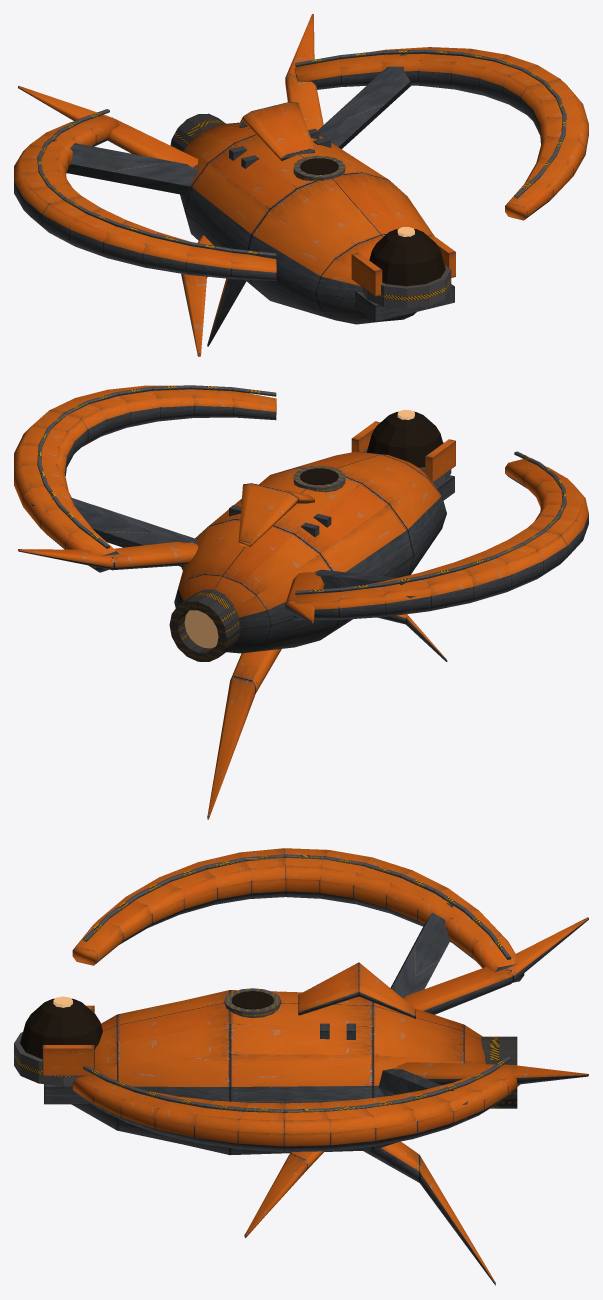
File: pioneer-saturn-l09-shield.glb
The picture shows the model from 3 angles, top to bottom: view 1: azimuth 30°, elevation 25°; view 2: azimuth 150°, elevation 25°; view 3: azimuth 270°, elevation 25°; orthographic projection. The views are drawn at different scales.
Visible parts, largest first — view 1: Drone; view 2: Drone; view 3: Drone.
Part boxes in pixels (<box>): Drone: <box>14,14,588,356</box>; Drone: <box>14,385,588,819</box>; Drone: <box>14,848,588,1285</box>.
Bounding box in the file's own units: 1.75 × 0.9071 × 1.52.
3 materials, 3 textured.
